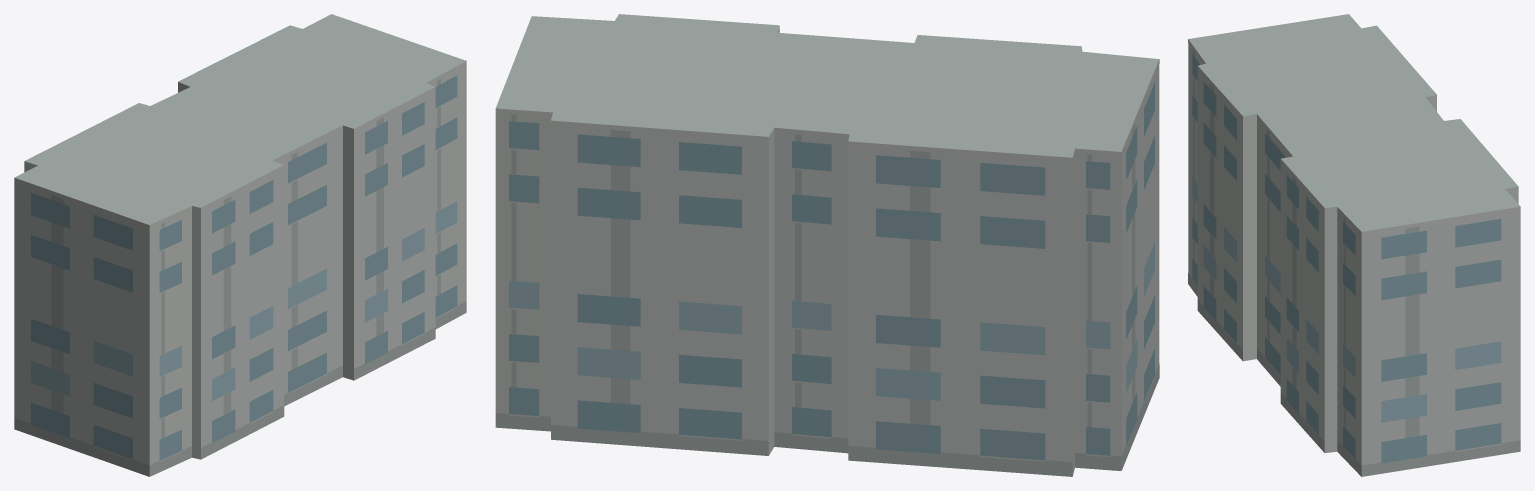
File: survey-upis-32855826.glb
The picture shows the model from 3 angles, left to right: view 1: azimuth 30°, elevation 25°; view 2: azimuth 150°, elevation 25°; view 3: azimuth 270°, elevation 25°; orthographic projection. The views are drawn at different scales.
Parts seen in each view (by area): view 1: survey-upis-32855826.tmp; view 2: survey-upis-32855826.tmp; view 3: survey-upis-32855826.tmp.
Part boxes in pixels (x1,y1,x2,y2): survey-upis-32855826.tmp: [14, 14, 466, 476]; survey-upis-32855826.tmp: [495, 14, 1159, 476]; survey-upis-32855826.tmp: [1188, 14, 1520, 476].
Size of the model in its own units: 30.43 by 15.95 by 19.63.
